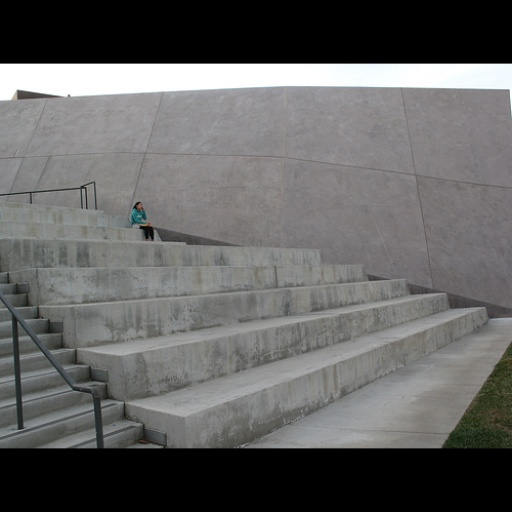Stairs: (19, 209, 510, 403)
